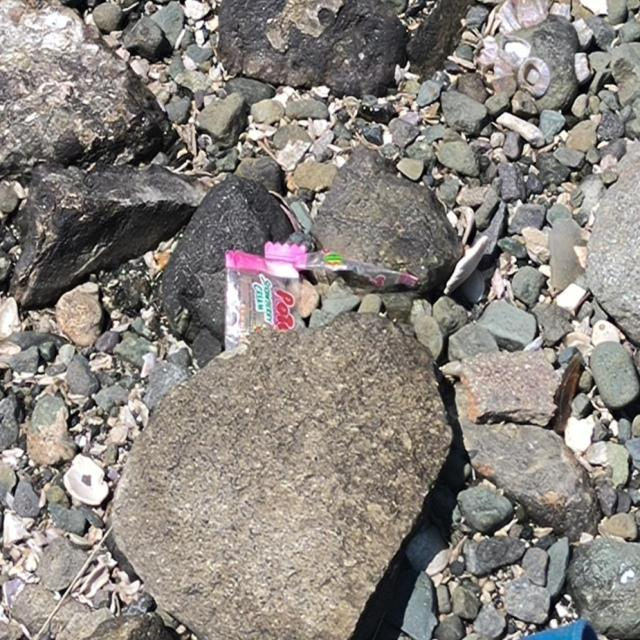plastic_waste: (225, 240, 422, 353)
